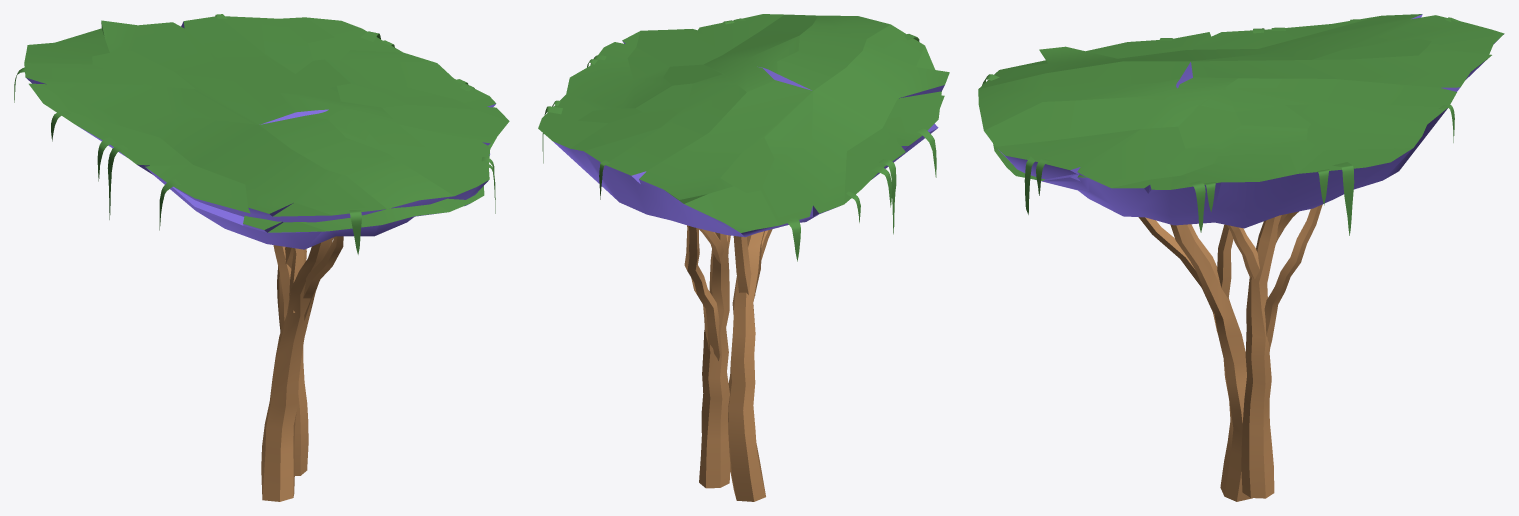
File: tree_C_canopy_C_solo.fbx
The picture shows the model from 3 angles, left to right: view 1: azimuth 30°, elevation 25°; view 2: azimuth 150°, elevation 25°; view 3: azimuth 270°, elevation 25°; orthographic projection. The views are drawn at different scales.
Parts seen in each view (by area): view 1: tree_C_canopy_C_C, tree_B_canopy_B_trunk_A1, tree_C_canopy_C_leveled, tree_B_canopy_B_trunks_A, tree_B_canopy_B_trunk_I1; view 2: tree_C_canopy_C_C, tree_B_canopy_B_trunk_A1, tree_B_canopy_B_trunks_A, tree_C_canopy_C_leveled, tree_B_canopy_B_trunks_D, tree_B_canopy_B_trunk_C1; view 3: tree_C_canopy_C_C, tree_B_canopy_B_trunks_A, tree_B_canopy_B_trunk_A1, tree_C_canopy_C_leveled, tree_B_canopy_B_trunks_D, tree_B_canopy_B_trunk_I1, tree_B_canopy_B_trunk_C1, tree_B_canopy_B_trunks_B, tree_C_canopy_C_liana_A.
Boxes of the visible parts, bbox=[...] form: tree_C_canopy_C_C: bbox=[24, 16, 509, 249]; tree_B_canopy_B_trunk_A1: bbox=[261, 237, 333, 501]; tree_C_canopy_C_leveled: bbox=[172, 54, 496, 249]; tree_B_canopy_B_trunks_A: bbox=[273, 245, 308, 475]; tree_B_canopy_B_trunk_I1: bbox=[303, 236, 343, 320]; tree_C_canopy_C_C: bbox=[538, 14, 949, 237]; tree_B_canopy_B_trunk_A1: bbox=[728, 231, 765, 501]; tree_B_canopy_B_trunks_A: bbox=[699, 232, 730, 488]; tree_C_canopy_C_leveled: bbox=[661, 64, 944, 179]; tree_B_canopy_B_trunks_D: bbox=[684, 225, 720, 360]; tree_B_canopy_B_trunk_C1: bbox=[733, 236, 755, 295]; tree_C_canopy_C_C: bbox=[978, 14, 1504, 228]; tree_B_canopy_B_trunks_A: bbox=[1241, 215, 1281, 498]; tree_B_canopy_B_trunk_A1: bbox=[1170, 224, 1252, 501]; tree_C_canopy_C_leveled: bbox=[993, 62, 1341, 220]; tree_B_canopy_B_trunks_D: bbox=[1264, 204, 1322, 351]; tree_B_canopy_B_trunk_I1: bbox=[1138, 217, 1213, 313]; tree_B_canopy_B_trunk_C1: bbox=[1217, 224, 1233, 298]; tree_B_canopy_B_trunks_B: bbox=[1227, 225, 1259, 279]; tree_C_canopy_C_liana_A: bbox=[1332, 162, 1354, 235].
Size of the model in its own units: 486 by 544 by 619.
